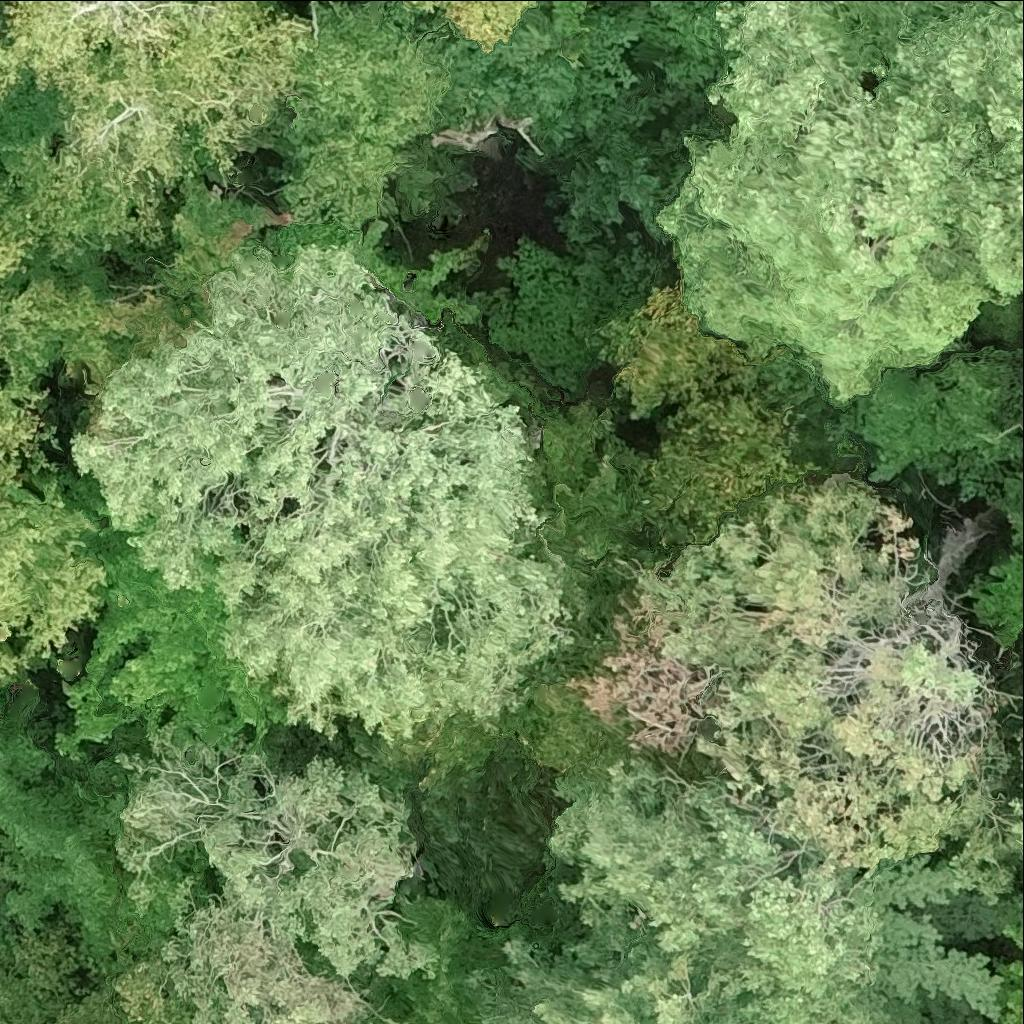crown: (67, 254, 572, 736), (632, 474, 1015, 888), (663, 0, 1003, 397), (113, 752, 426, 1023), (0, 0, 314, 266), (554, 752, 836, 964), (61, 506, 292, 758), (841, 0, 1023, 302), (620, 279, 823, 545), (363, 0, 636, 145), (686, 848, 897, 1023), (275, 13, 442, 226), (826, 349, 1023, 516), (469, 934, 789, 1023), (869, 866, 1012, 1023), (0, 490, 111, 661), (0, 288, 95, 461), (975, 514, 1023, 650), (407, 0, 533, 49), (436, 113, 530, 151), (0, 213, 32, 281), (997, 956, 1023, 1023), (0, 38, 21, 97), (546, 0, 583, 31), (1007, 892, 1023, 948), (1010, 802, 1023, 857), (0, 649, 12, 679), (1021, 733, 1023, 775)
